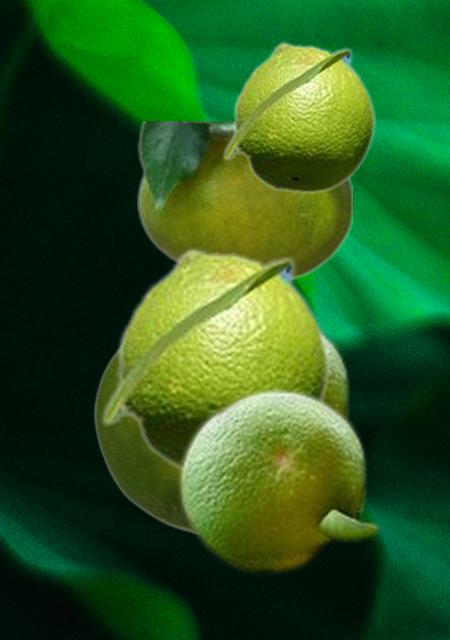dalandan: (99, 247, 331, 472), (176, 385, 381, 574), (137, 121, 351, 281), (221, 41, 376, 194), (93, 350, 190, 534), (325, 330, 352, 417)
